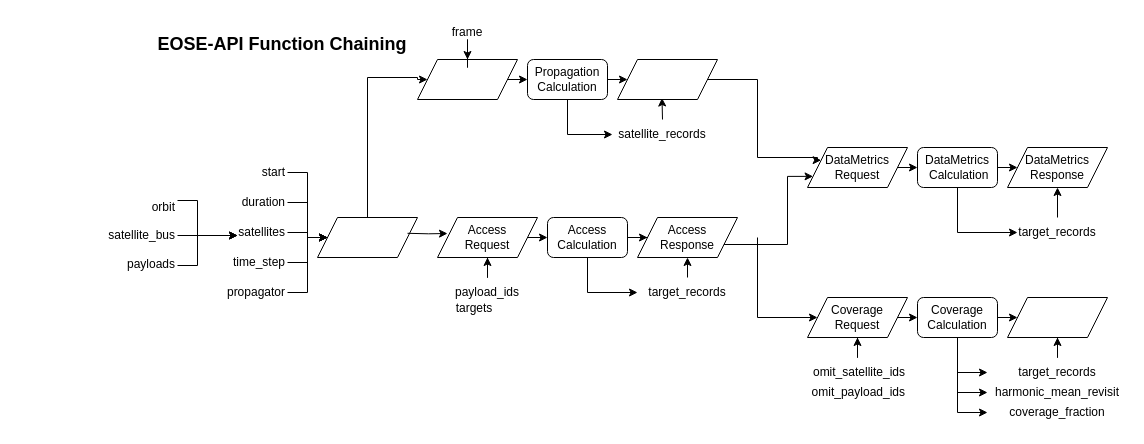
Image size: 1144x444. Some labels were removed from this diagram. Here are the shapes that lost their labels. From the top down, the box of each, then its label:
(416, 58, 518, 100): Propagation Request
(616, 58, 718, 100): Propagation Response
(316, 216, 418, 258): Base Request
(1006, 296, 1108, 338): Coverage Response
